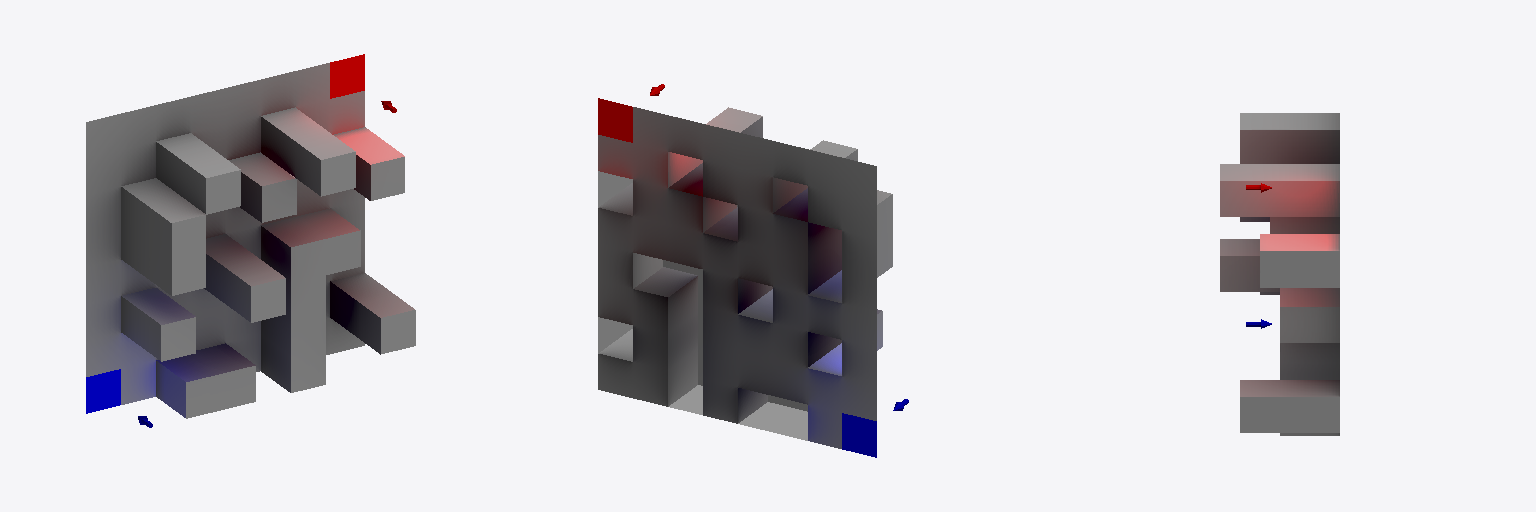
3 views of the same model, side by side, from view 1: azimuth 30°, elevation 25°; view 2: azimuth 150°, elevation 25°; view 3: azimuth 270°, elevation 25° (orthographic).
Parts seen in each view (by area): view 1: maze; view 2: maze; view 3: maze.
Part boxes in pixels (left/top/right/bottom): maze: left=86, top=54, right=415, bottom=418; maze: left=598, top=98, right=892, bottom=457; maze: left=1220, top=113, right=1339, bottom=435.
Size of the model in its own units: 24 by 24 by 9.
3 materials, 3 textured.